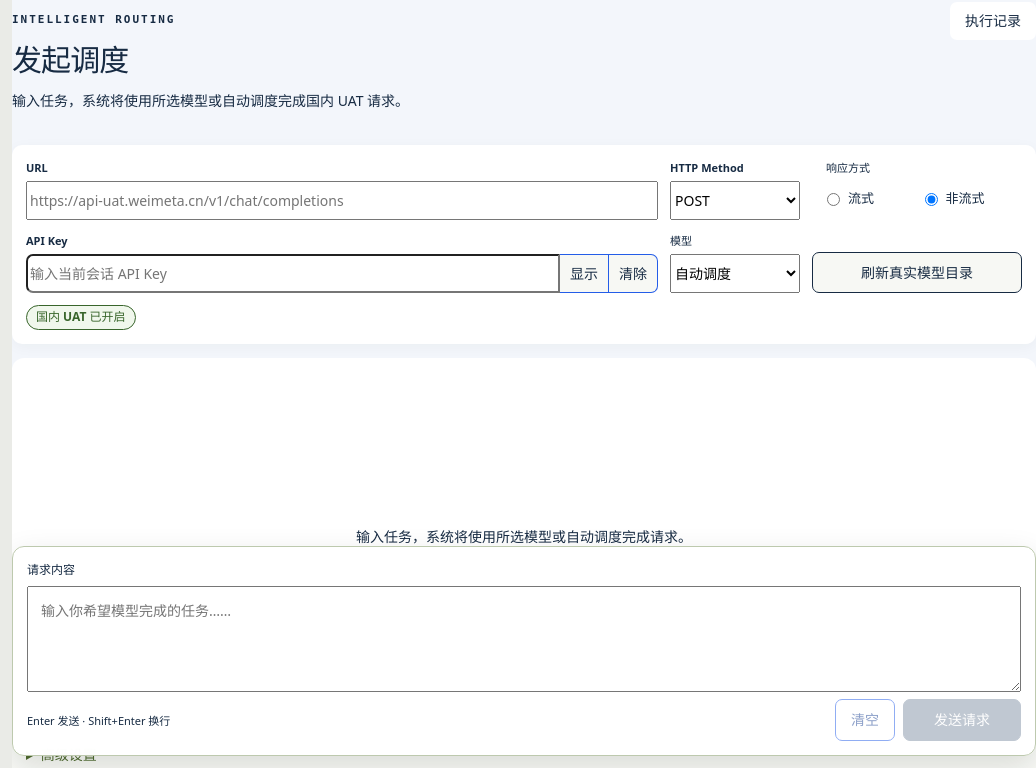
Test: agent-style UAT request page › keeps the API key out of browser storage and allows showing, hiding, and clearing
Type "test-only-key-not-real" into the password field labelled "API Key" at (293, 274), box [26,254,560,294]
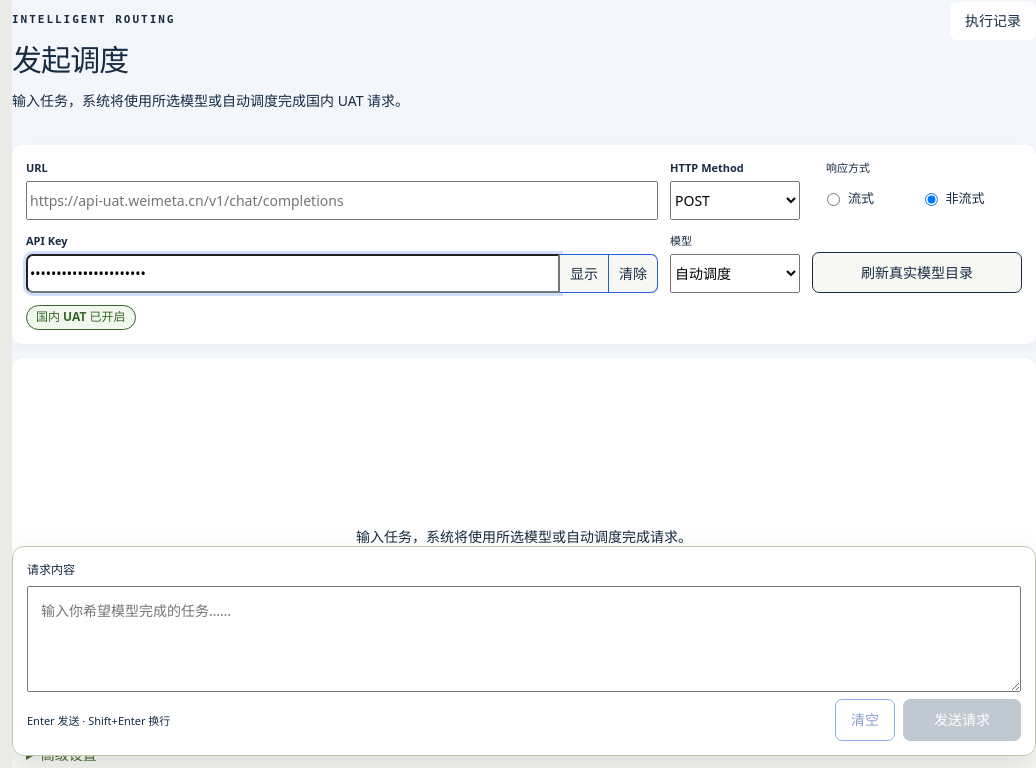
Click the button "显示" at (584, 274), box [560,254,609,294]
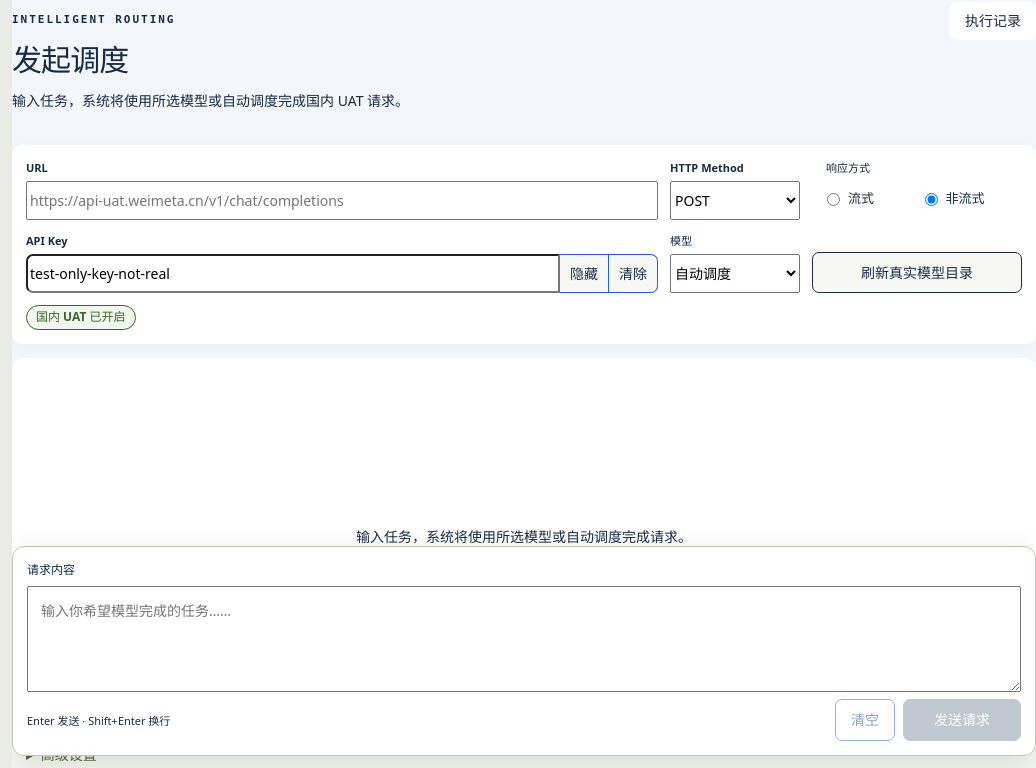
Expected: the field labelled "API Key" shows its text, [26,254,560,294]
Click the button "隐藏" at (584, 274), box [560,254,609,294]
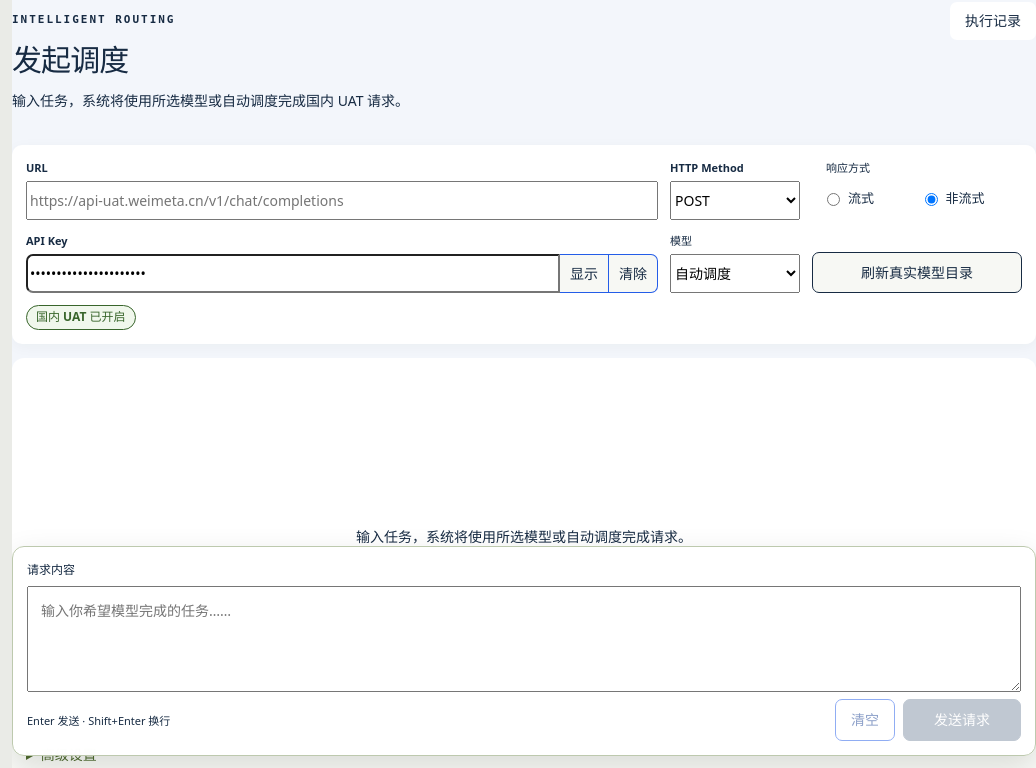
Expected: the password field labelled "API Key" hides its text, [26,254,560,294]
Click the button "清除" at (634, 274), box [609,254,658,294]
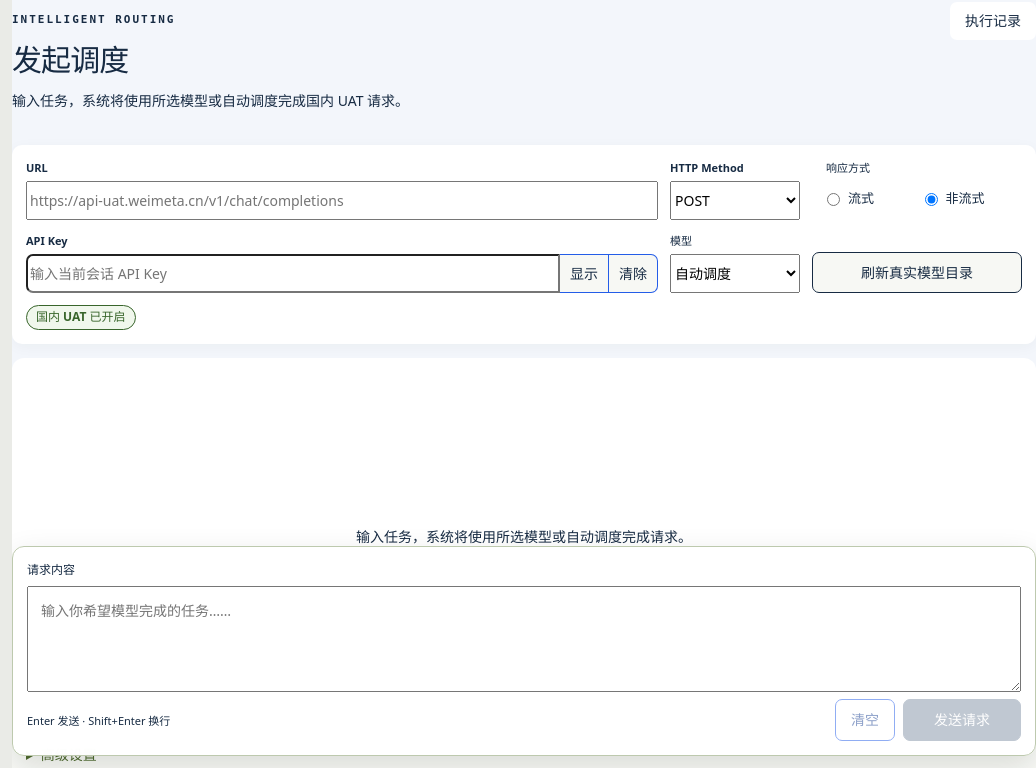
Expected: the password field labelled "API Key" is empty, [26,254,560,294]
